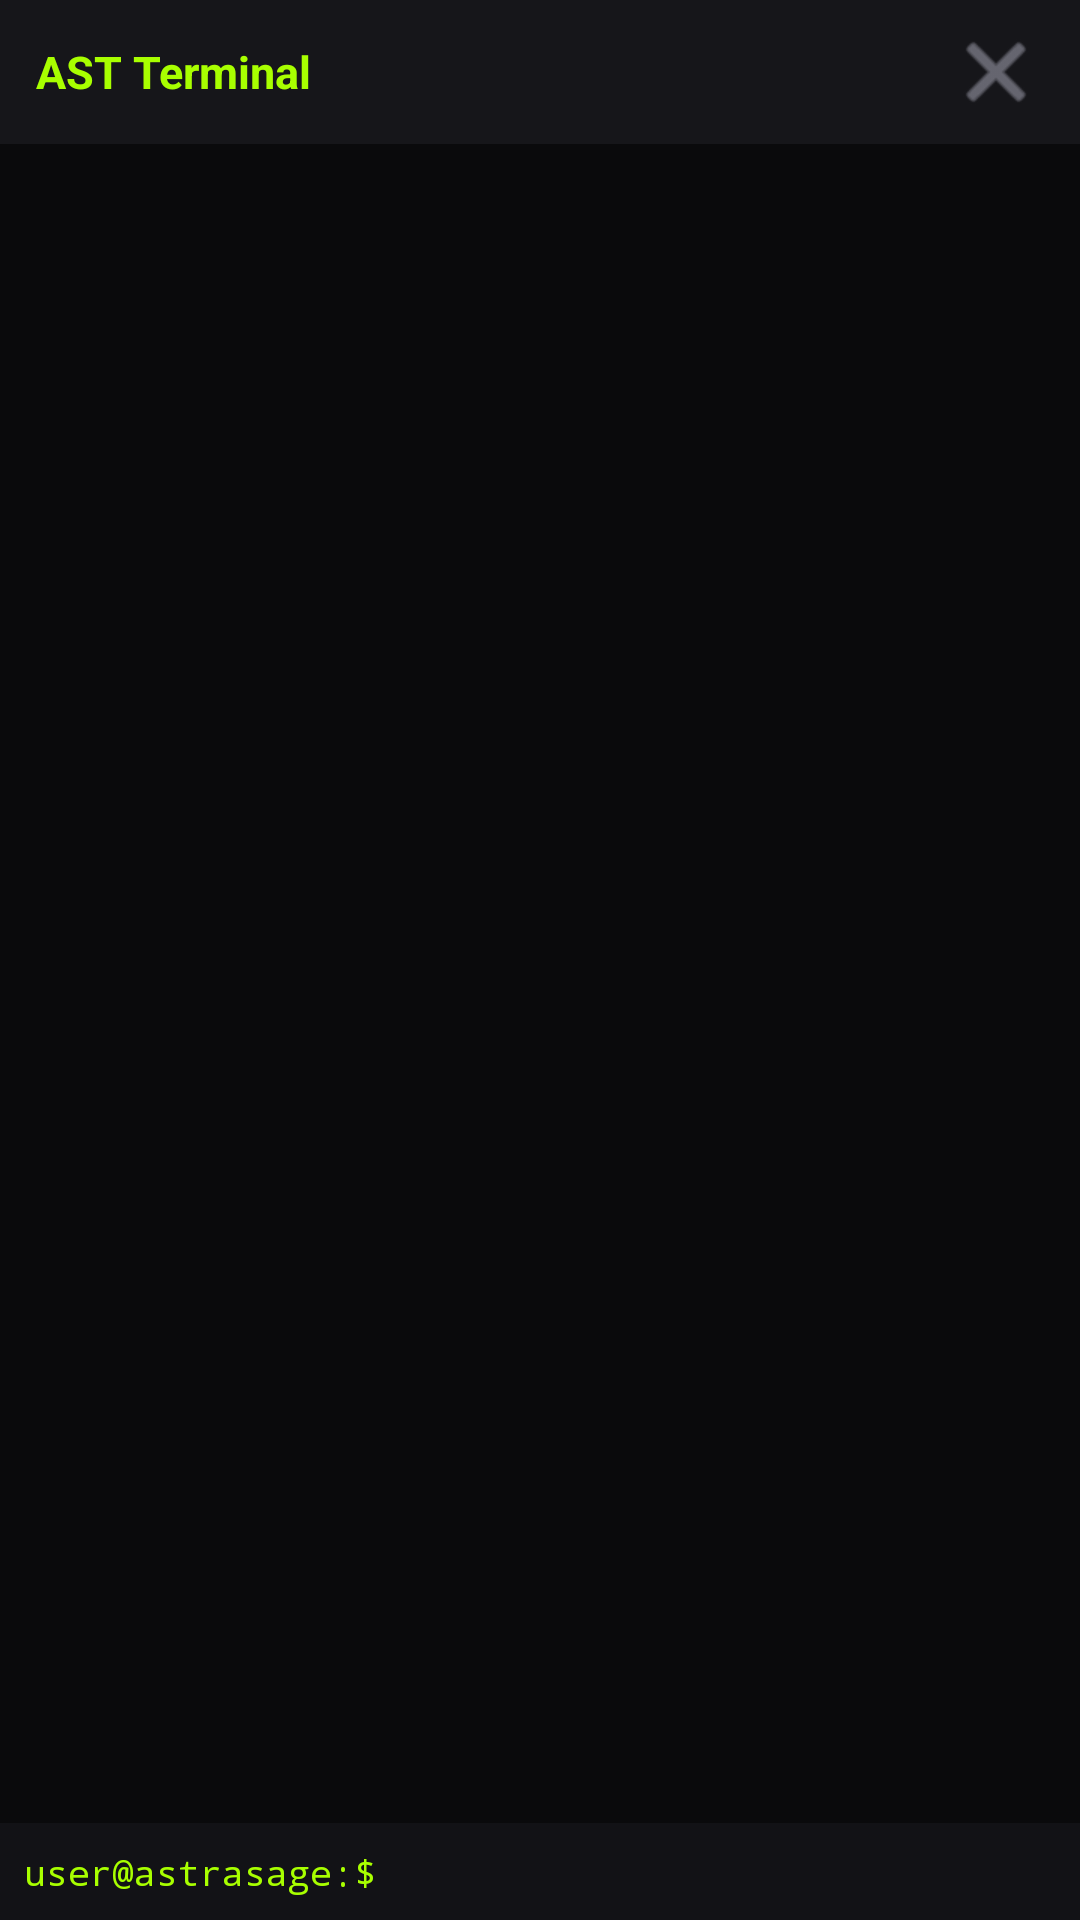

Icons on this 1080*1920 Android screen, each with the point to tap as (x,y):
Kapat: (996,72)
